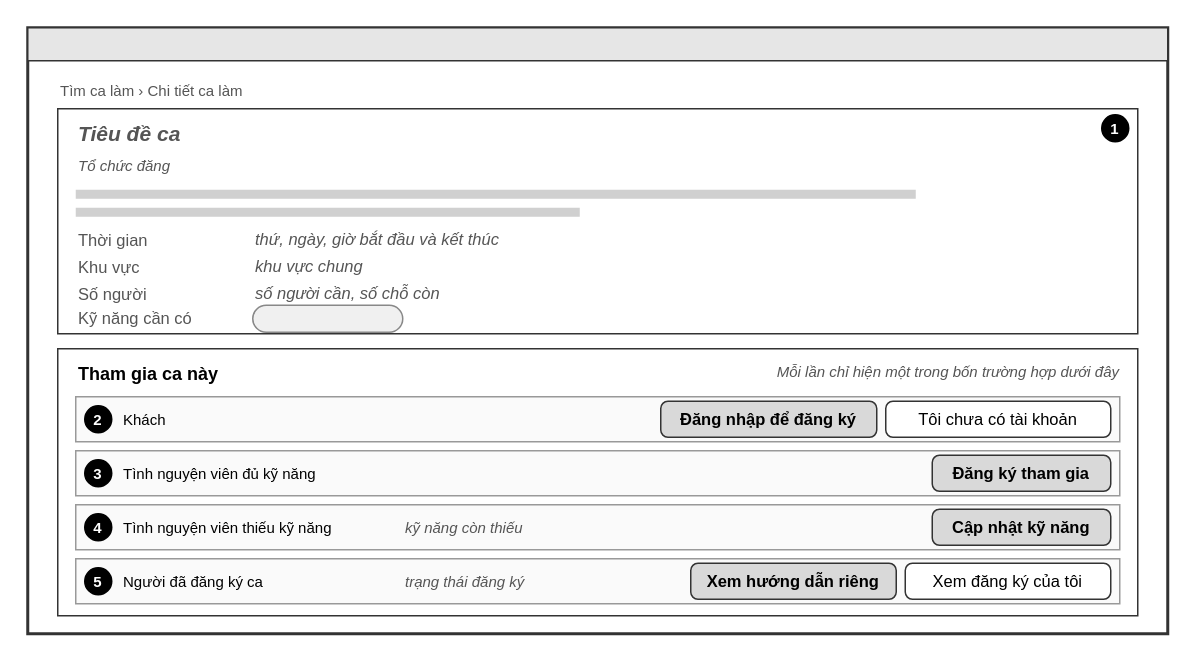
Some shapes in this 1194 by 660 pixel diagram are drawn without their labels. Here are the shapes that lost their labels. From the top down, the box of each, then its label:
(26, 26, 1168, 61): Đầu trang và thanh mục (Hình 6.2)
(251, 304, 403, 332): kỹ năng yêu cầu
